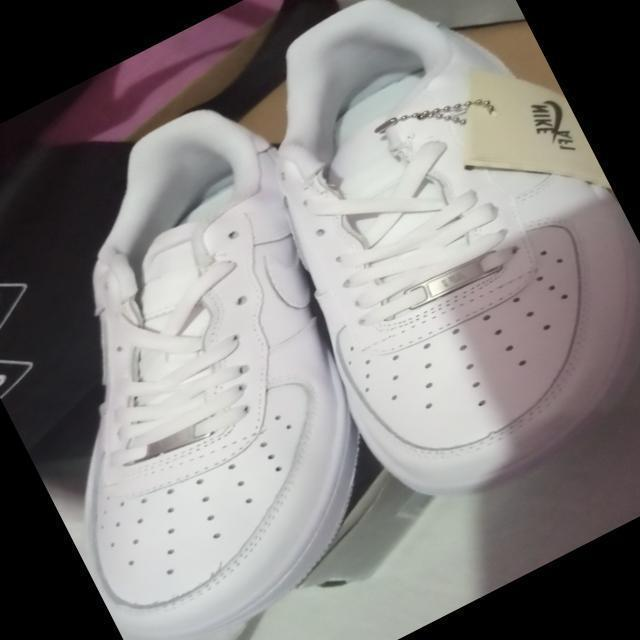nike fake air force: (0, 85, 455, 640), (173, 0, 640, 538)
